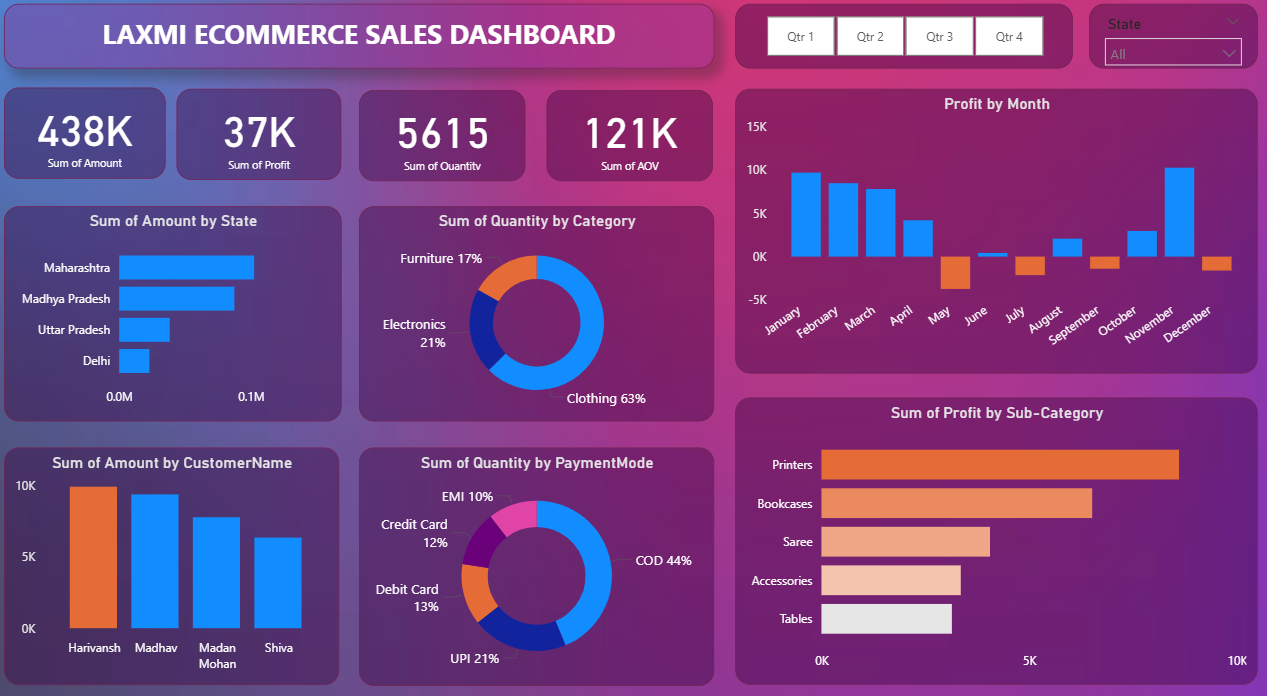

This screenshot's page, from the dashboard's own definition file:
{"tool":"powerbi","page":{"name":"Page 1","canvas":[1280,720],"ordinal":0},"visuals":[{"type":"textbox","box":[10,8.8,710,65],"z":0},{"type":"columnChart","title":" Profit by Month","fields":{"Y":["Details.Profit"],"Category":["Orders.Order Date.Variation.Date Hierarchy.Month"]},"box":[741.2,93.8,522.5,285],"z":1000},{"type":"barChart","fields":{"Category":["Details.Sub-Category"],"Y":["Details.Profit"]},"box":[741.2,402.5,522.5,287.5],"z":2000},{"type":"donutChart","fields":{"Category":["Details.Category"],"Y":["Details.Quantity"]},"box":[365,211.2,355,215],"z":3000},{"type":"donutChart","fields":{"Category":["Details.PaymentMode"],"Y":["Details.Quantity"]},"box":[365,452.5,355,238.8],"z":4000},{"type":"card","fields":{"Values":["Details.Amount"]},"box":[10,92.5,161.2,91.2],"z":5000},{"type":"card","fields":{"Values":["Details.Profit"]},"box":[182.5,93.8,165,91.2],"z":6000},{"type":"card","fields":{"Values":["Details.Quantity"]},"box":[365,95,166.2,91.2],"z":7000},{"type":"card","fields":{"Values":["Details.AOV"]},"box":[552.5,95,166.2,91.2],"z":8000},{"type":"barChart","fields":{"Category":["Orders.State"],"Y":["Details.Amount"]},"box":[10,211.2,337.5,215],"z":9000},{"type":"columnChart","fields":{"Y":["Details.Amount"],"Category":["Orders.CustomerName"]},"box":[10,452.5,335,237.5],"z":10000},{"type":"slicer","fields":{"Values":["Orders.Order Date.Variation.Date Hierarchy.Quarter"]},"box":[741.2,8.8,337.5,65],"z":10001},{"type":"slicer","fields":{"Values":["Orders.State"]},"box":[1095,8.8,168.8,65],"z":10002}]}

Visuals, with their boxes in screenshot pixels (x1, y1, x2, y2), scaled from the page's 1280x720 canvas onto the 1267x696 screenshot:
textbox: x1=10, y1=9, x2=713, y2=71
" Profit by Month" columnChart: x1=734, y1=91, x2=1251, y2=366
barChart - Details.Sub-Category x Details.Profit: x1=734, y1=389, x2=1251, y2=667
donutChart - Details.Category x Details.Quantity: x1=361, y1=204, x2=713, y2=412
donutChart - Details.PaymentMode x Details.Quantity: x1=361, y1=437, x2=713, y2=668
card - Details.Amount: x1=10, y1=89, x2=169, y2=178
card - Details.Profit: x1=181, y1=91, x2=344, y2=179
card - Details.Quantity: x1=361, y1=92, x2=526, y2=180
card - Details.AOV: x1=547, y1=92, x2=711, y2=180
barChart - Orders.State x Details.Amount: x1=10, y1=204, x2=344, y2=412
columnChart - Details.Amount x Orders.CustomerName: x1=10, y1=437, x2=341, y2=667
slicer - Orders.Order Date.Variation.Date Hierarchy.Quarter: x1=734, y1=9, x2=1068, y2=71
slicer - Orders.State: x1=1084, y1=9, x2=1251, y2=71
